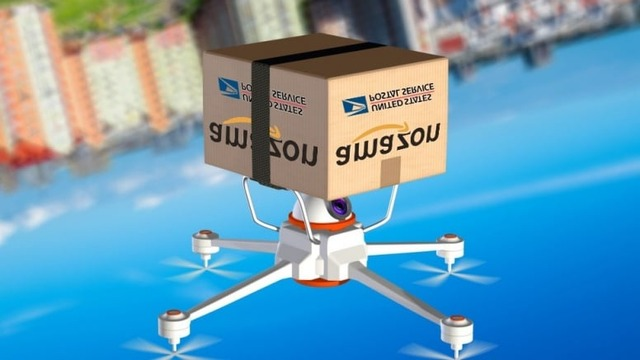drone: (120, 30, 504, 360)
